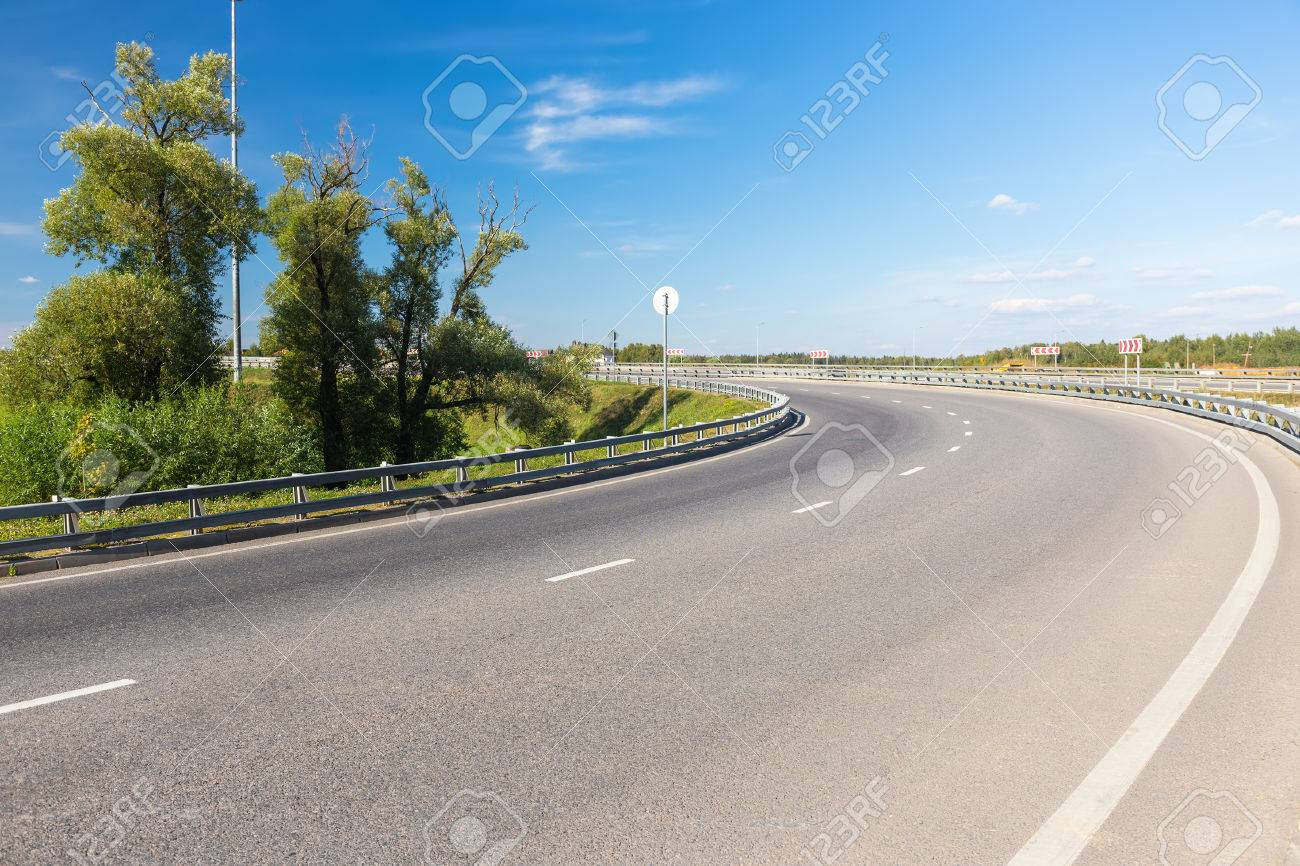leftTrun: (701, 347, 1300, 701)
